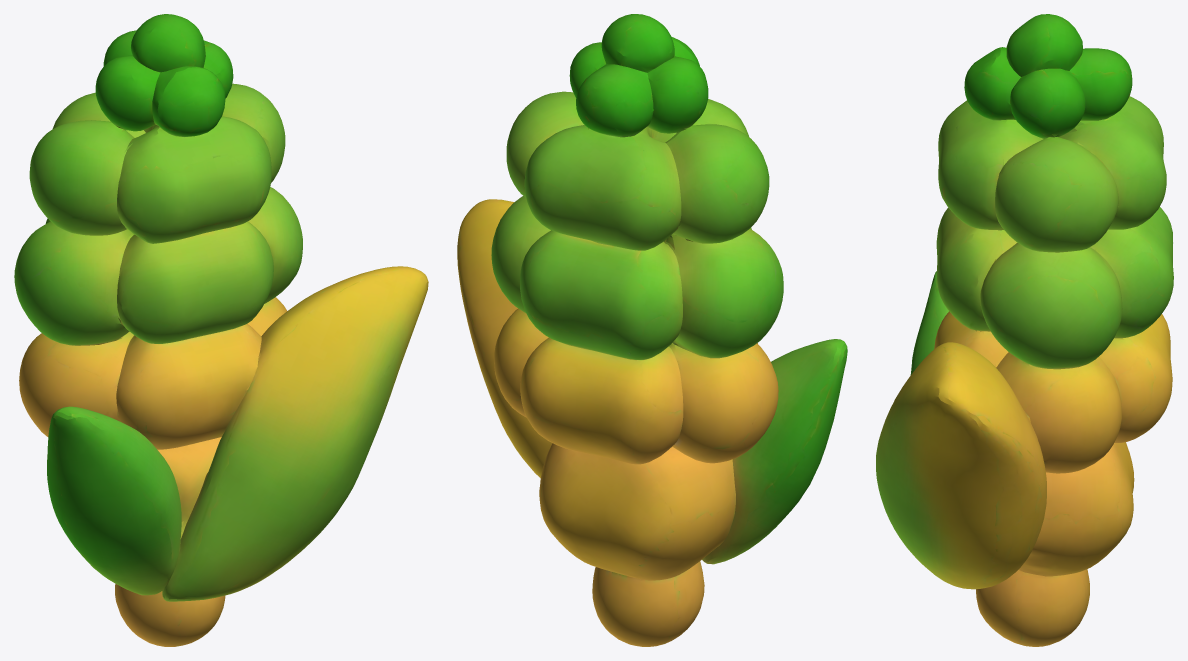
File: corn.glb
The picture shows the model from 3 angles, left to right: view 1: azimuth 30°, elevation 25°; view 2: azimuth 150°, elevation 25°; view 3: azimuth 270°, elevation 25°; orthographic projection.
Visible parts, largest first — view 1: Mesh; view 2: Mesh; view 3: Mesh.
Part boxes in pixels (x1,y1,x2,y2): Mesh: (14, 14, 428, 646); Mesh: (457, 14, 847, 646); Mesh: (876, 14, 1173, 646).
Size of the model in its own units: 0.6302 by 1 by 0.4318.
Materials: 1 (1 with a texture image).
